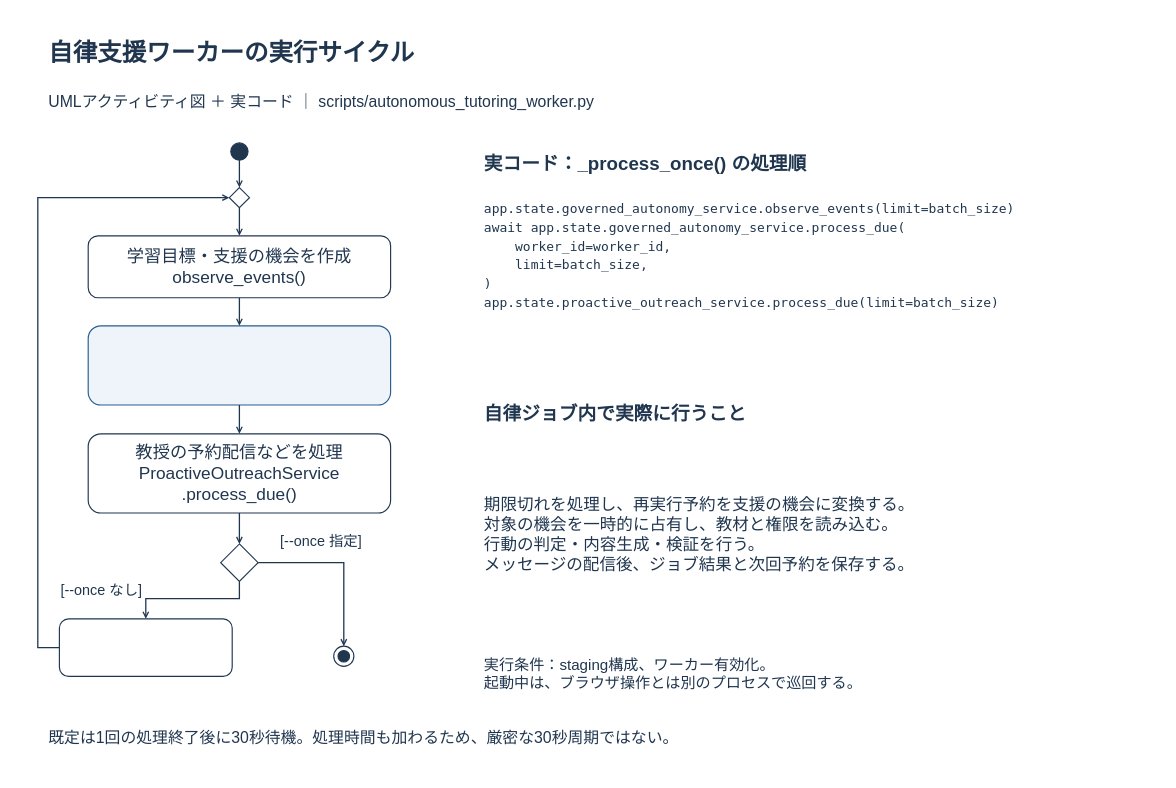
Image size: 1176x788. Some labels were removed from this diagram. Each missing label, with the centre of its shape:
"期限の来た自律ジョブを実行 GovernedAutonomyService .process_due()" belongs at (x=239, y=365).
"次の巡回まで待つ time.sleep()" belongs at (x=145, y=647).
